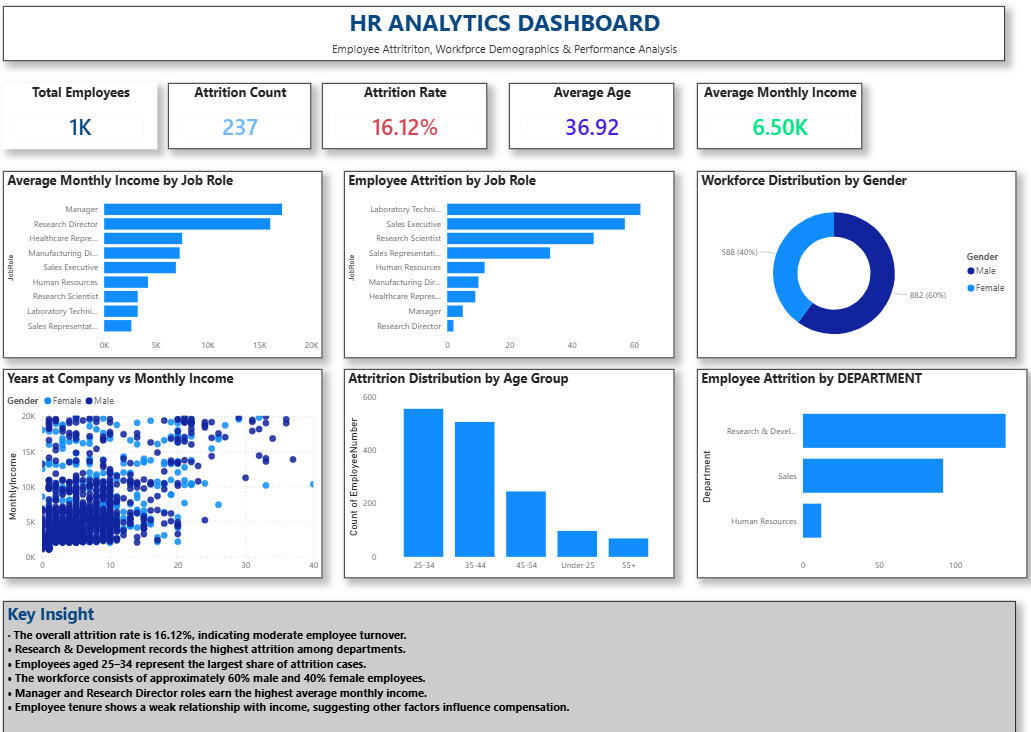

What the dashboard file says about the page in this screenshot:
{"tool":"powerbi","page":{"name":"Page 1","canvas":[1600,1080],"ordinal":0},"visuals":[{"type":"barChart","title":"Employee Attrition by DEPARTMENT","fields":{"Category":["HR-Employee-Attrition (2).Department"],"Y":["HR-Employee-Attrition (2).Attrition Count"]},"box":[1024,544,480,304],"z":0},{"type":"barChart","title":"Employee Attrition by Job Role","fields":{"Category":["HR-Employee-Attrition (2).JobRole"],"Y":["HR-Employee-Attrition (2).Attrition Count"]},"box":[512,256,480,272],"z":1000},{"type":"donutChart","title":"Workforce Distribution by Gender","fields":{"Category":["HR-Employee-Attrition (2).Gender"],"Y":["CountNonNull(HR-Employee-Attrition (2).EmployeeNumber)"]},"box":[1024,256,464,272],"z":2000},{"type":"barChart","title":"Average Monthly Income by Job Role","fields":{"Category":["HR-Employee-Attrition (2).JobRole"],"Y":["HR-Employee-Attrition (2).Average Monthly Income"]},"box":[16,256,464,272],"z":3000},{"type":"scatterChart","title":"Years at Company vs Monthly Income","fields":{"X":["HR-Employee-Attrition (2).YearsAtCompany"],"Y":["HR-Employee-Attrition (2).MonthlyIncome"],"Series":["HR-Employee-Attrition (2).Gender"]},"box":[16,544,464,304],"z":4000},{"type":"cardVisual","title":"Total Employees","fields":{"Data":["HR-Employee-Attrition (2).Total Employees"]},"box":[16,128,224,96],"z":5000},{"type":"columnChart","title":" Attritrion Distribution by Age Group","fields":{"Category":["HR-Employee-Attrition (2).Age Group"],"Y":["CountNonNull(HR-Employee-Attrition (2).EmployeeNumber)"]},"box":[512,544,480,304],"z":6000},{"type":"cardVisual","title":"Attrition Count","fields":{"Data":["HR-Employee-Attrition (2).Attrition Count"]},"box":[256,128,208,96],"z":7000},{"type":"cardVisual","title":"Attrition Rate","fields":{"Data":["HR-Employee-Attrition (2).Attrition Rate"]},"box":[480,128,240,96],"z":8000},{"type":"cardVisual","title":"Average Age","fields":{"Data":["HR-Employee-Attrition (2).Average Age"]},"box":[752,128,240,96],"z":9000},{"type":"cardVisual","title":"Average Monthly Income","fields":{"Data":["HR-Employee-Attrition (2).Average Monthly Income"]},"box":[1024,128,240,96],"z":10000},{"type":"textbox","title":"HR ANALYTICS DASHBOARD","box":[16,16,1456,80],"z":11000},{"type":"textbox","title":"Key Insight","box":[16,880,1472,192],"z":12000}]}

Visuals, with their boxes on the page's 1600x1080 design canvas (x1, y1, x2, y2). These are canvas units, not pixel positions in the 1031x732 screenshot, which may show the page scaled, cropped or inside an application window:
"Employee Attrition by DEPARTMENT" barChart: l=1024, t=544, r=1504, b=848
"Employee Attrition by Job Role" barChart: l=512, t=256, r=992, b=528
"Workforce Distribution by Gender" donutChart: l=1024, t=256, r=1488, b=528
"Average Monthly Income by Job Role" barChart: l=16, t=256, r=480, b=528
"Years at Company vs Monthly Income" scatterChart: l=16, t=544, r=480, b=848
"Total Employees" cardVisual: l=16, t=128, r=240, b=224
" Attritrion Distribution by Age Group" columnChart: l=512, t=544, r=992, b=848
"Attrition Count" cardVisual: l=256, t=128, r=464, b=224
"Attrition Rate" cardVisual: l=480, t=128, r=720, b=224
"Average Age" cardVisual: l=752, t=128, r=992, b=224
"Average Monthly Income" cardVisual: l=1024, t=128, r=1264, b=224
"HR ANALYTICS DASHBOARD" textbox: l=16, t=16, r=1472, b=96
"Key Insight" textbox: l=16, t=880, r=1488, b=1072
